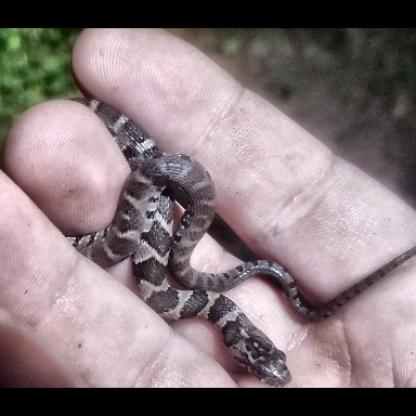Snake: (22, 35, 392, 388)
